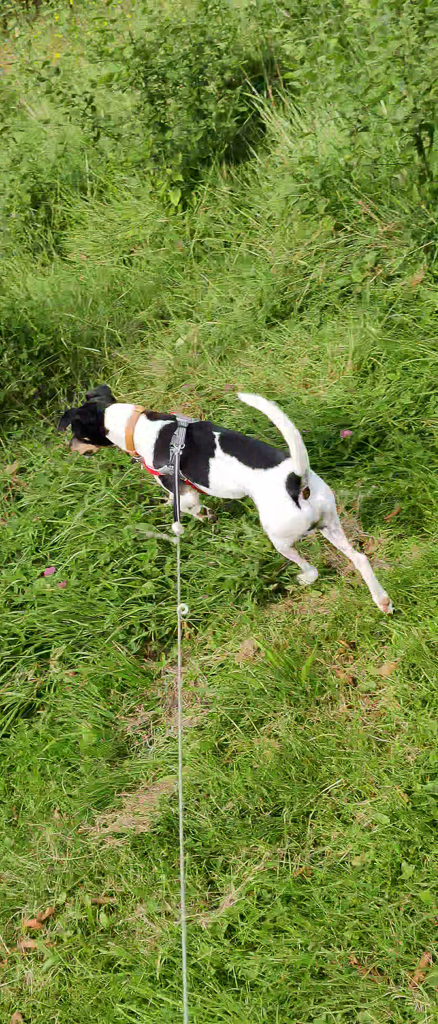Dog: (50, 366, 400, 621)
